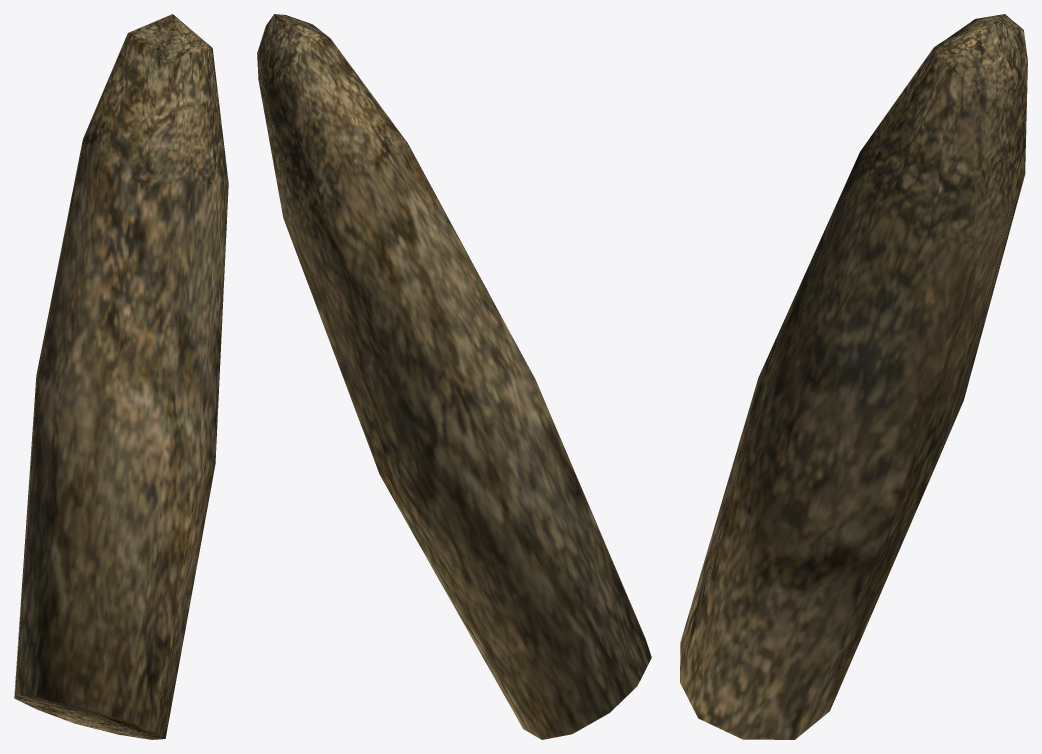
The model's file is CH09_SMAUG_PLAYSURFACE_LONELYMOUNTAIN_LM_PLAYSURFACE32.fbx.
The picture shows the model from 3 angles, left to right: view 1: azimuth 30°, elevation 25°; view 2: azimuth 150°, elevation 25°; view 3: azimuth 270°, elevation 25°; orthographic projection. The views are drawn at different scales.
Parts seen in each view (by area): view 1: CH09_SMAUG_PLAYSURFACE_LONELYMOUNTAIN_LM_PLAYSURFACE32; view 2: CH09_SMAUG_PLAYSURFACE_LONELYMOUNTAIN_LM_PLAYSURFACE32; view 3: CH09_SMAUG_PLAYSURFACE_LONELYMOUNTAIN_LM_PLAYSURFACE32.
Part boxes in pixels (x1,y1,x2,y2): CH09_SMAUG_PLAYSURFACE_LONELYMOUNTAIN_LM_PLAYSURFACE32: (14,14,228,739); CH09_SMAUG_PLAYSURFACE_LONELYMOUNTAIN_LM_PLAYSURFACE32: (257,14,651,739); CH09_SMAUG_PLAYSURFACE_LONELYMOUNTAIN_LM_PLAYSURFACE32: (680,14,1027,739).
Bounding box in the file's own units: 28037 × 66157 × 26106.
1 material, 1 textured.
